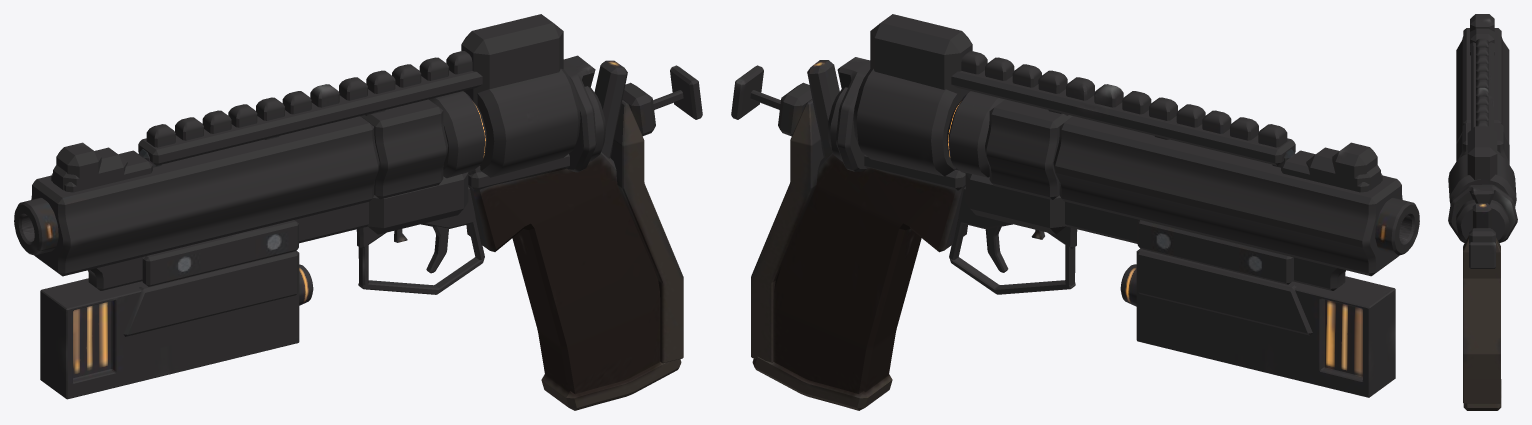
File: arma1.glb
3 renders of one model, left to right at view 1: azimuth 30°, elevation 25°; view 2: azimuth 150°, elevation 25°; view 3: azimuth 270°, elevation 25°, orthographic. The views are drawn at different scales.
Parts seen in each view (by area): view 1: g (×26); view 2: g (×25); view 3: g (×24).
Part boxes in pixels (x1,y1,x2,y2): g (×26): [14, 14, 702, 410]; g (×25): [731, 14, 1419, 410]; g (×24): [1448, 14, 1517, 410].
Bounding box in the file's own units: 2 × 1.11 × 0.2953.
Materials: 1 (1 with a texture image).
